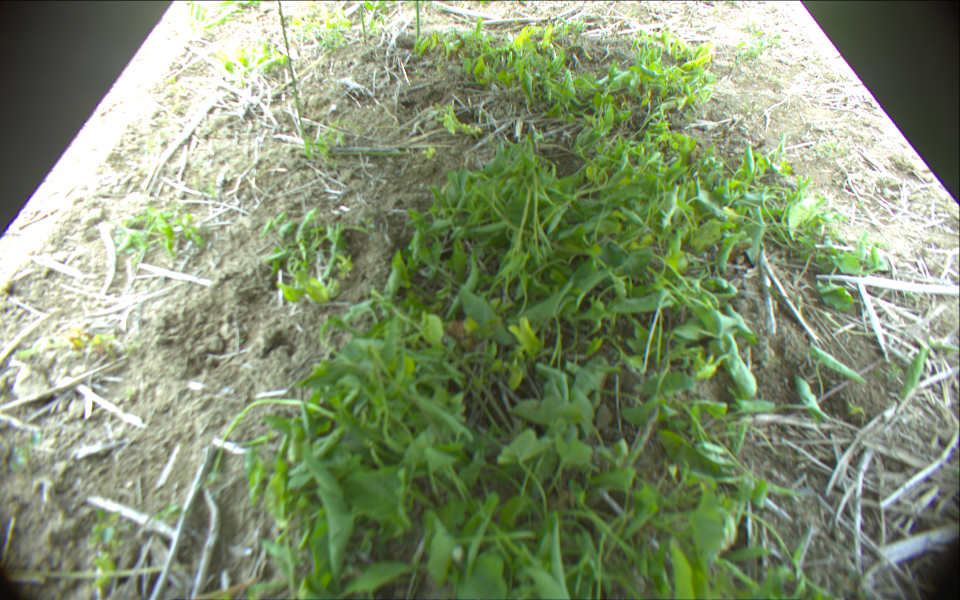aspa: (273, 1, 308, 133), (358, 1, 367, 43), (415, 1, 423, 42)
